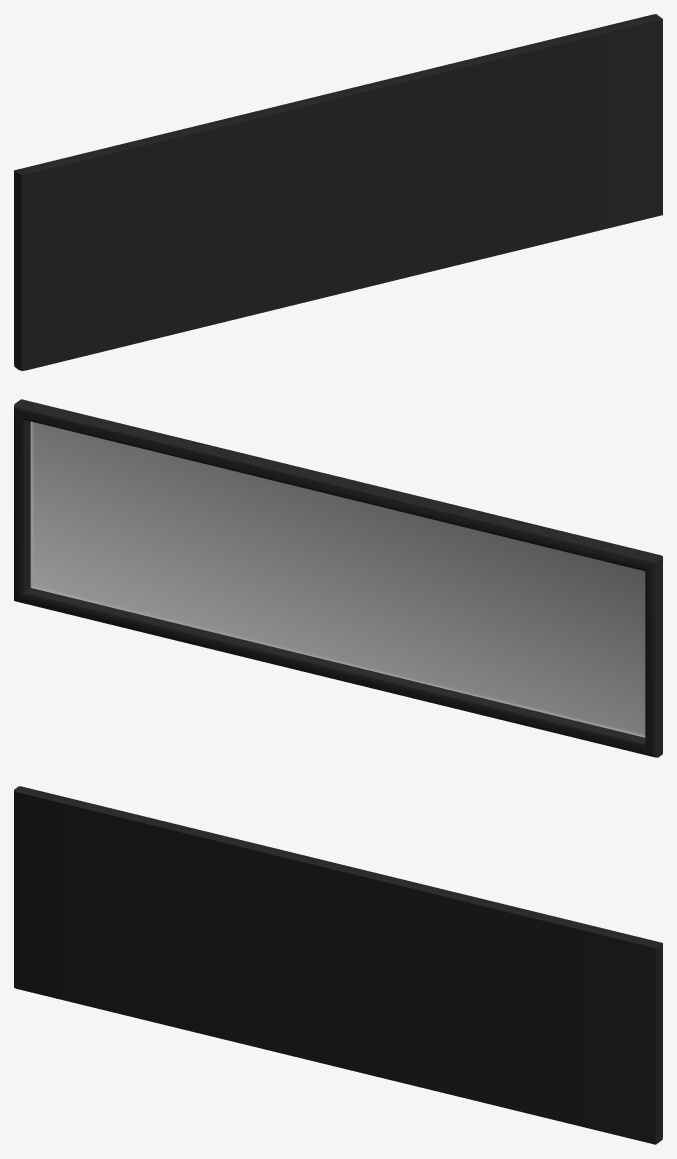
File: whiteboard_1.glb
3 views of the same model, one above another, from view 1: azimuth 30°, elevation 25°; view 2: azimuth 150°, elevation 25°; view 3: azimuth 330°, elevation 25° (orthographic).
Visible parts, largest first — view 1: Cube.040; view 2: Cube.040; view 3: Cube.040.
Part boxes in pixels (left/top/right/bottom): Cube.040: left=14, top=14, right=662, bottom=370; Cube.040: left=14, top=399, right=662, bottom=757; Cube.040: left=14, top=786, right=662, bottom=1144.
Size of the model in its own units: 4.55 by 1.33 by 0.1107.
Materials: 1 (1 with a texture image).
